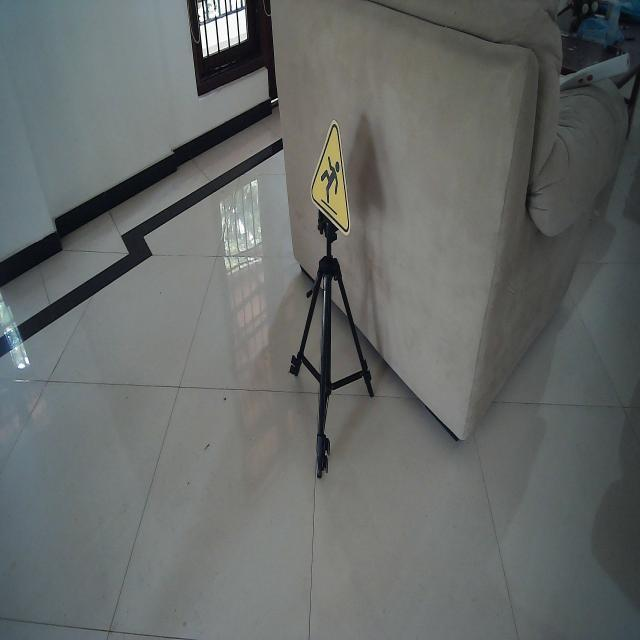slippery_sign: (308, 116, 354, 238)
